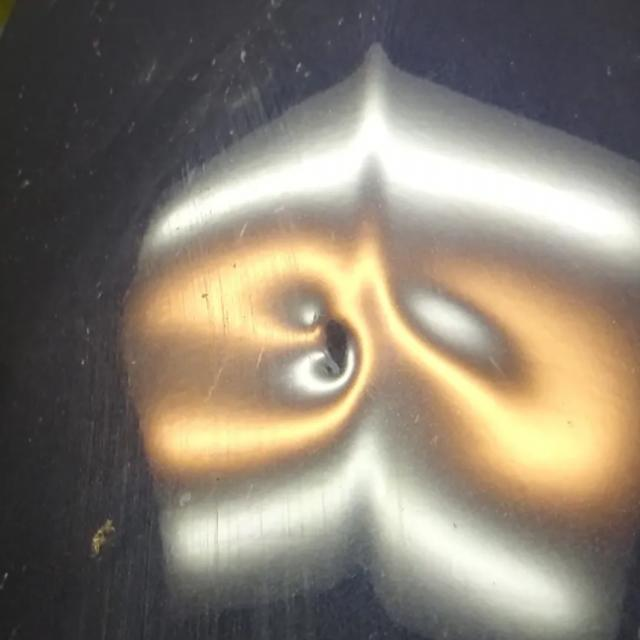dents: (395, 271, 541, 402), (270, 295, 354, 407)
